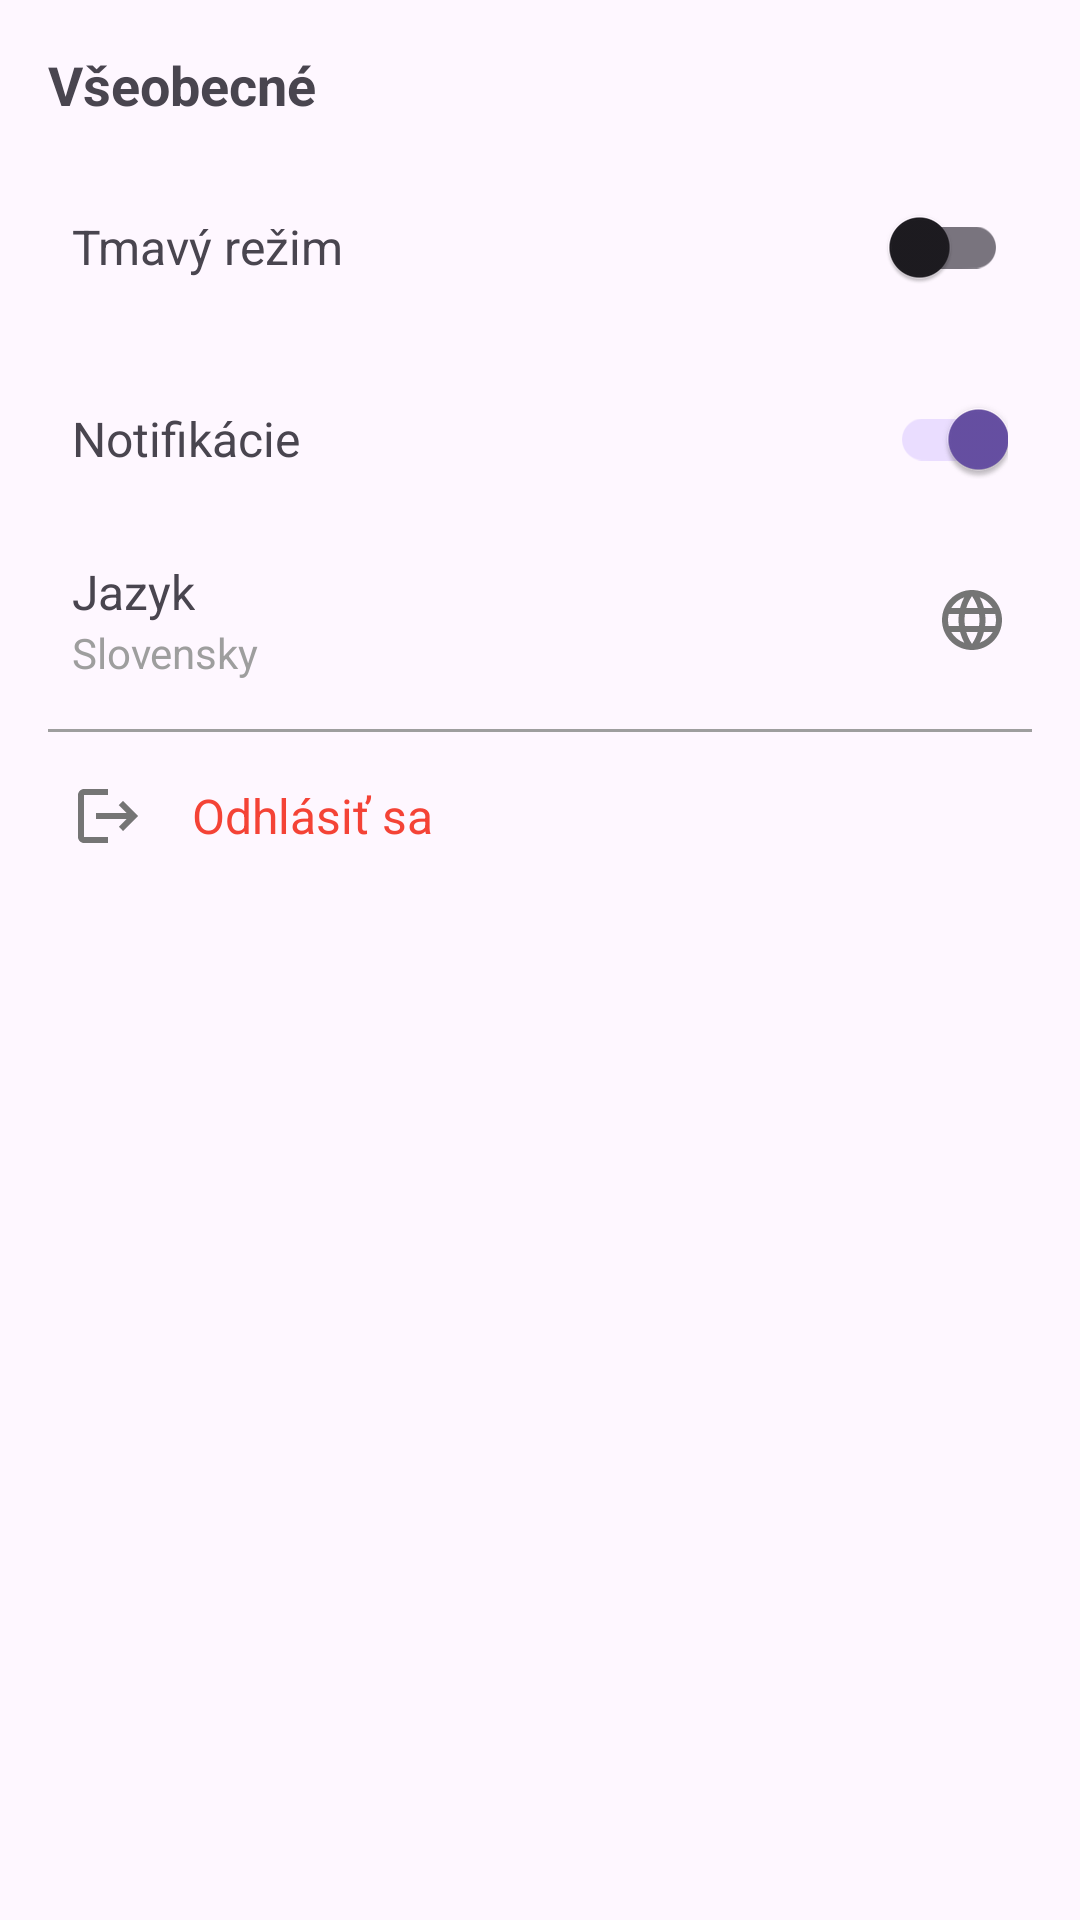

Named icons in this screenshot (1080*1920) and their centers, point (x, y):
language: point (972, 620)
